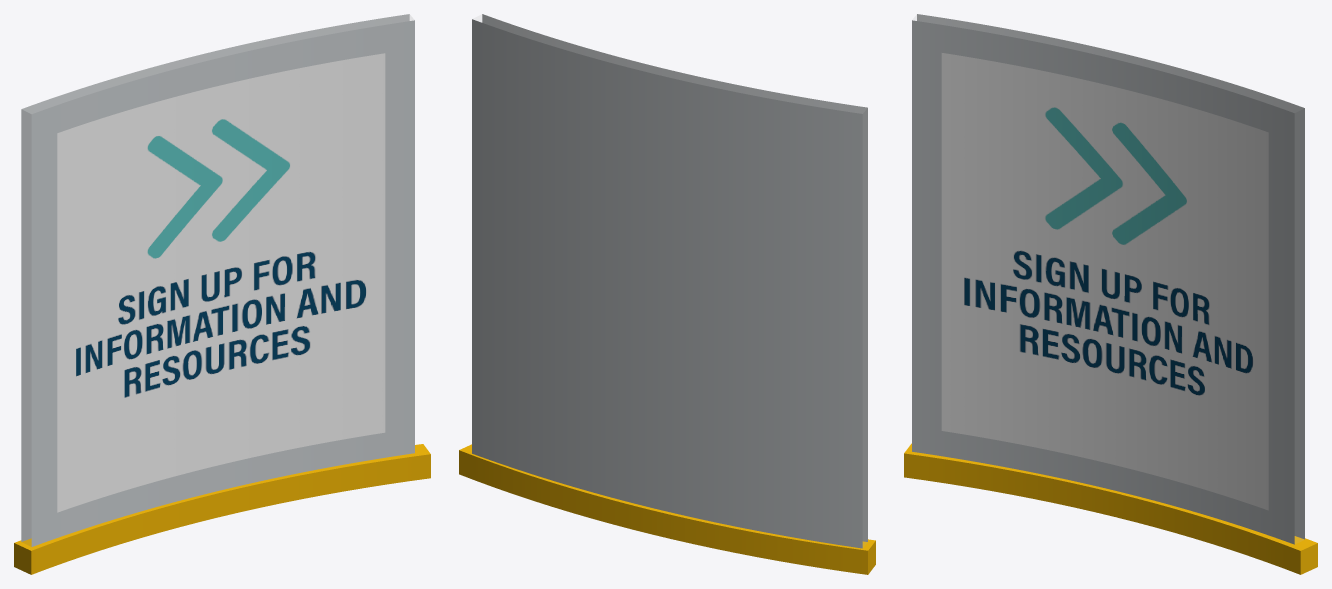
File: panel_vv_v_2.fbx
The picture shows the model from 3 angles, left to right: view 1: azimuth 30°, elevation 25°; view 2: azimuth 150°, elevation 25°; view 3: azimuth 330°, elevation 25°; orthographic projection.
Parts seen in each view (by area): view 1: GEO_32, GEO_28, Tube001; view 2: GEO_28, Tube001; view 3: GEO_32, GEO_28, Tube001.
Boxes of the visible parts, x1,y1,x2,y2 form: GEO_32: (57, 53, 385, 512); GEO_28: (21, 14, 414, 546); Tube001: (14, 444, 430, 574); GEO_28: (472, 14, 867, 548); Tube001: (459, 444, 875, 574); GEO_32: (941, 53, 1268, 510); GEO_28: (912, 14, 1304, 544); Tube001: (904, 443, 1317, 574).
Size of the model in its own units: 754 by 806 by 82.41.
Materials: 4 (1 with a texture image).
